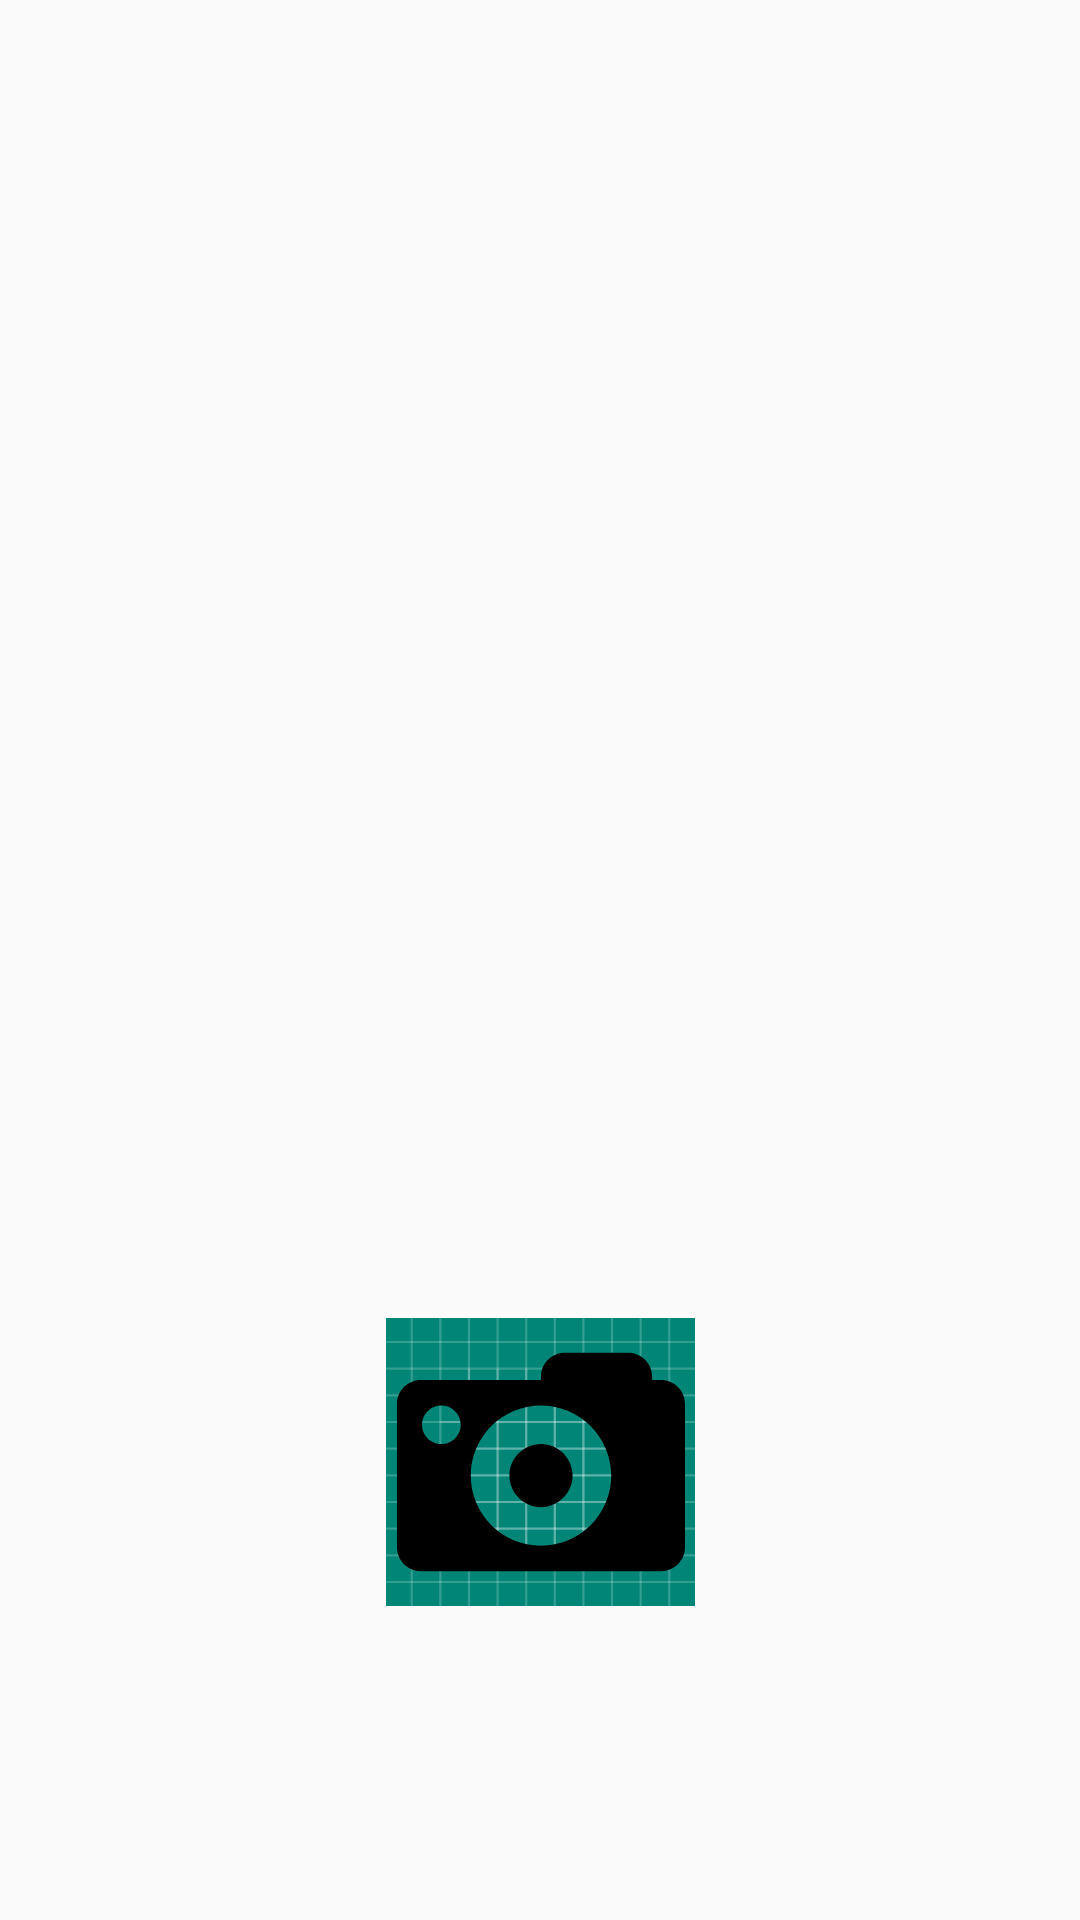

Where to tap for icons on this 1080w x 1920h app screen, as (x=x, y=y):
photo camera: (x=540, y=1462)
